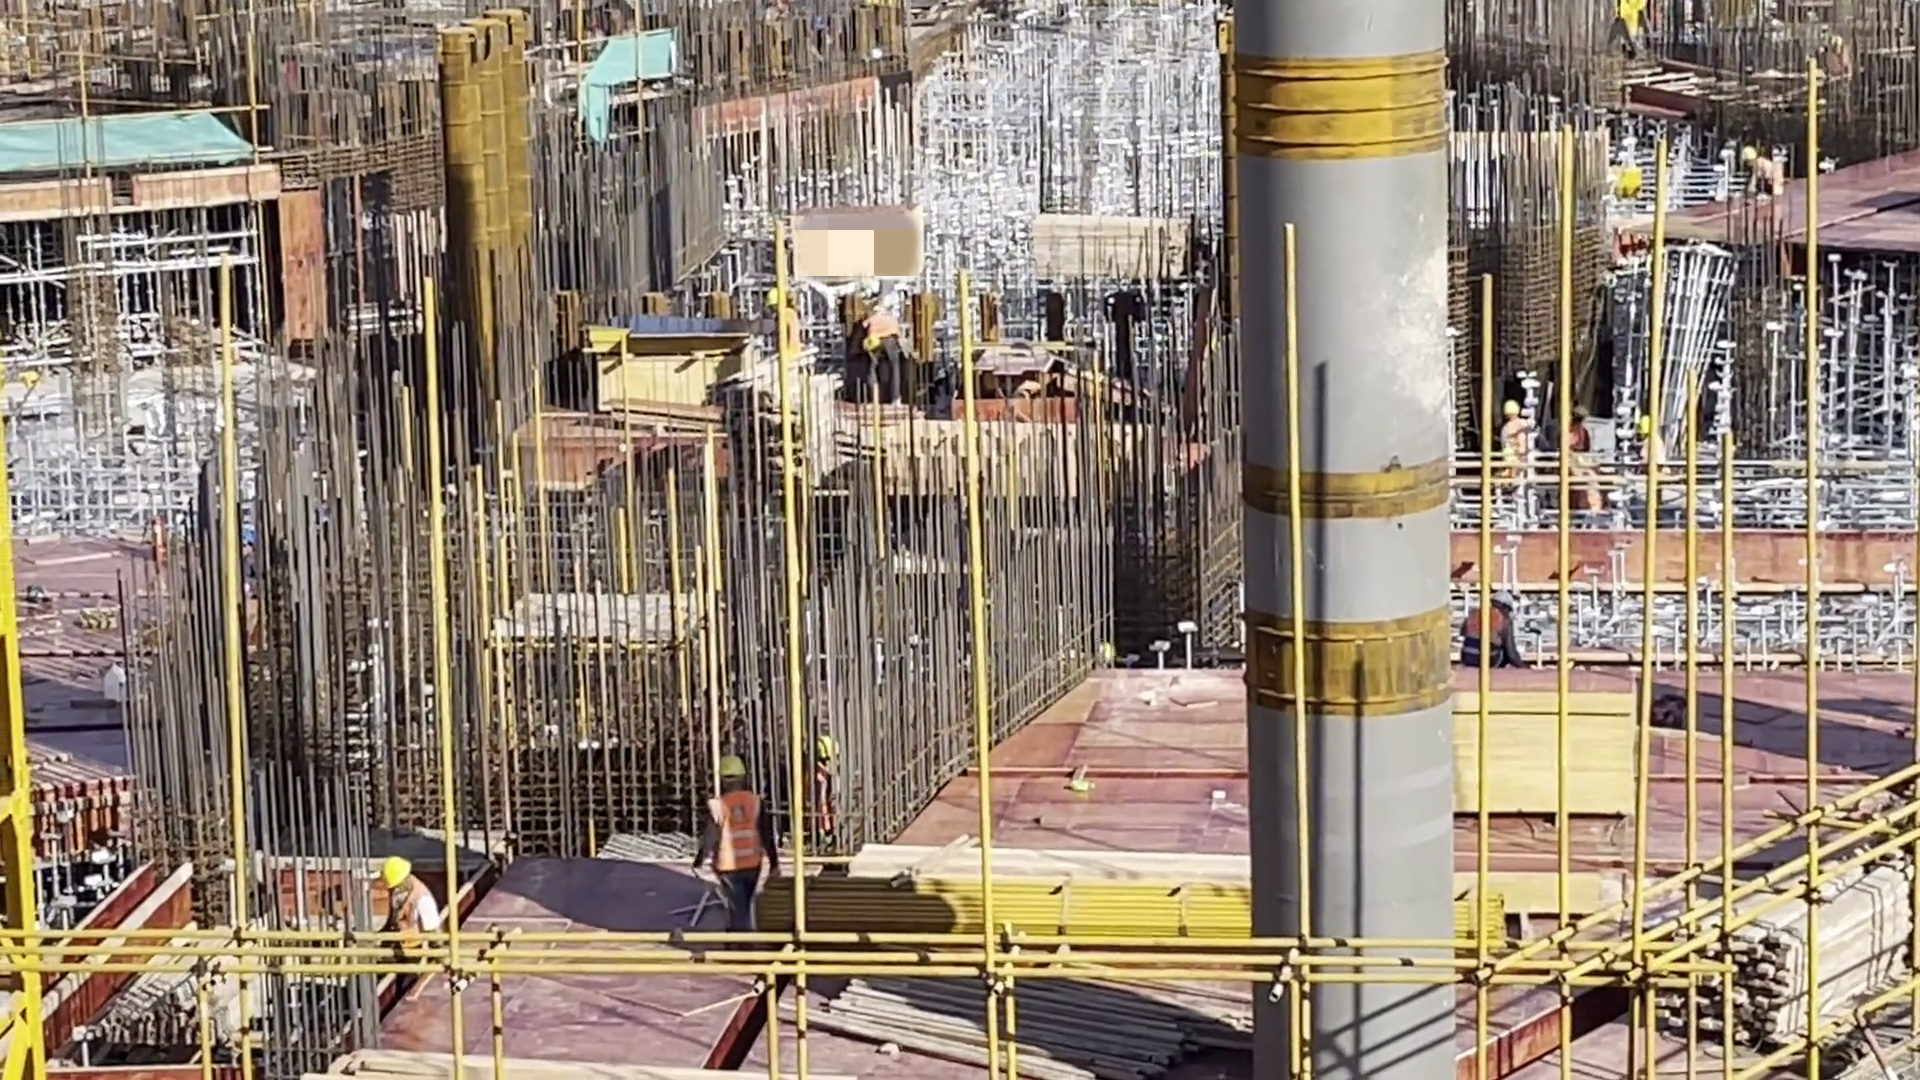helmet: (370, 855, 414, 894), (709, 748, 746, 779), (1502, 392, 1535, 422), (1487, 585, 1517, 619), (1569, 402, 1590, 424), (1638, 417, 1655, 433)
person: (685, 749, 786, 926), (374, 853, 444, 940), (1458, 587, 1526, 667), (859, 297, 909, 403), (1562, 405, 1600, 506), (1497, 393, 1536, 467), (1737, 144, 1783, 203), (1628, 412, 1671, 472)
vest: (704, 791, 756, 876)
